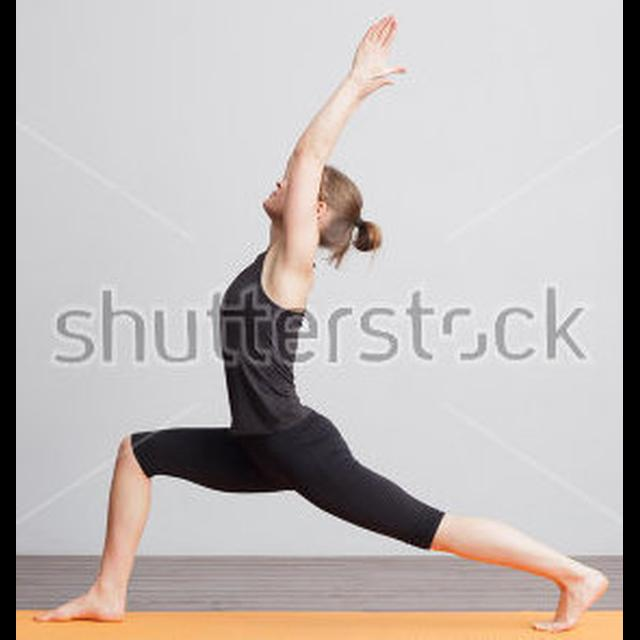Warrior_I: (36, 8, 611, 637)
